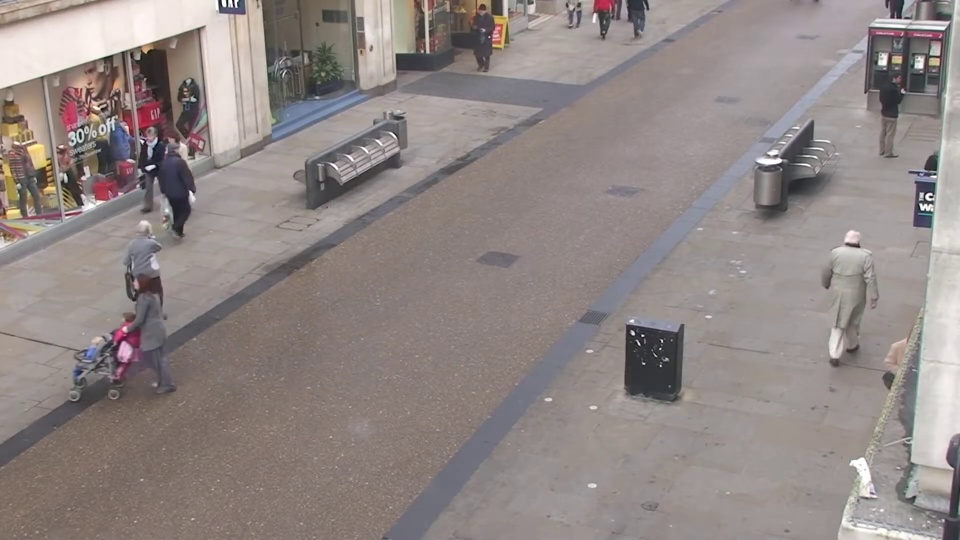pedestrian: (54, 323, 119, 472), (100, 270, 158, 403), (827, 218, 876, 342), (128, 213, 178, 332), (126, 127, 167, 223), (170, 133, 210, 231), (150, 130, 190, 227), (872, 67, 912, 154), (469, 5, 493, 70)
